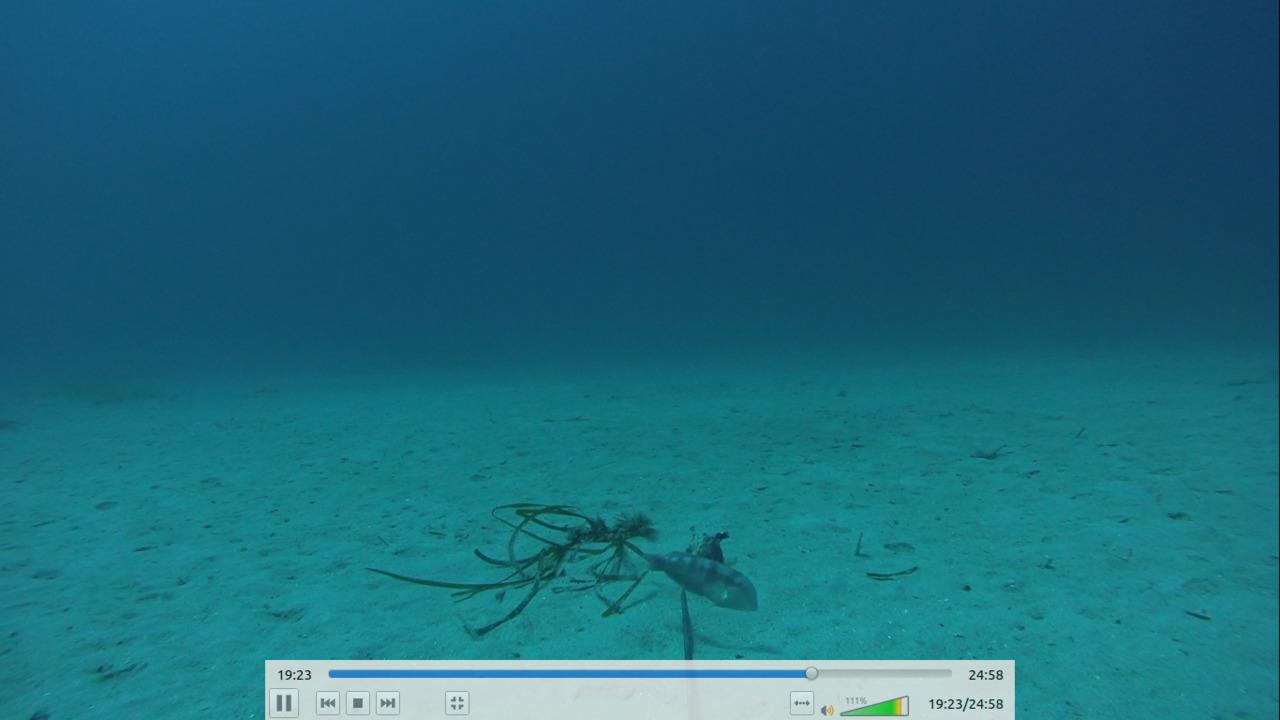raor: (634, 546, 760, 616)
